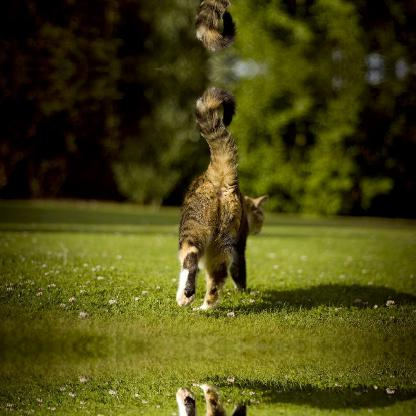Cat: (177, 85, 269, 315), (177, 0, 270, 52)
